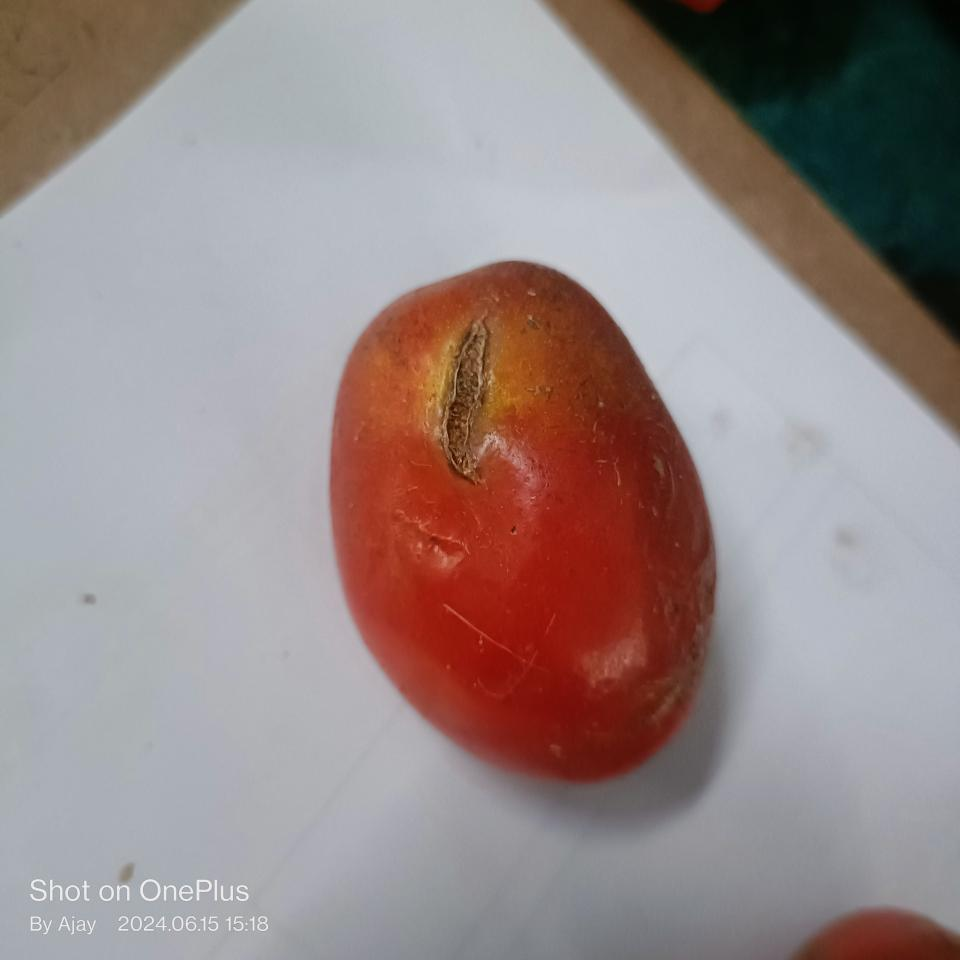Cracking: (433, 303, 486, 502)
